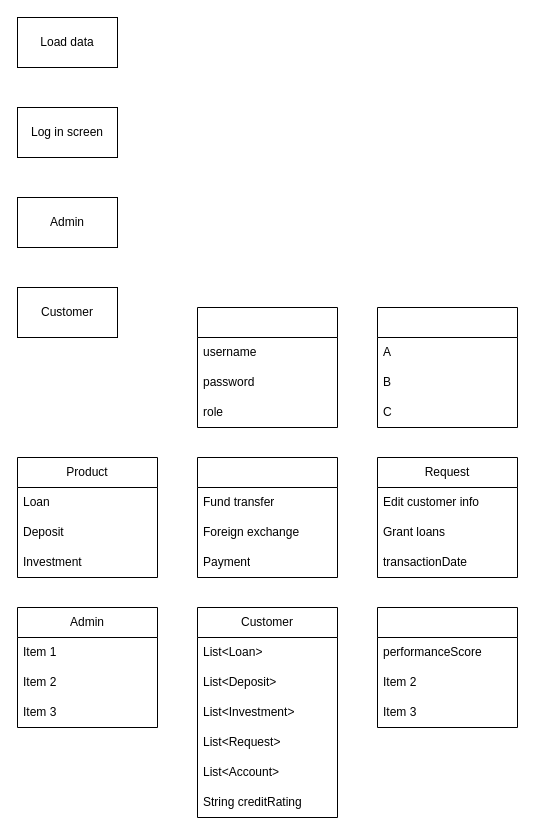
Some shapes in this 535 by 835 pixel diagram are drawn without their labels. Each missing label, with the box of its shape:
Account: (196, 306, 338, 428)
enum CreditRating: (376, 306, 518, 428)
Service: (196, 456, 338, 578)
Staff: (376, 606, 518, 728)
